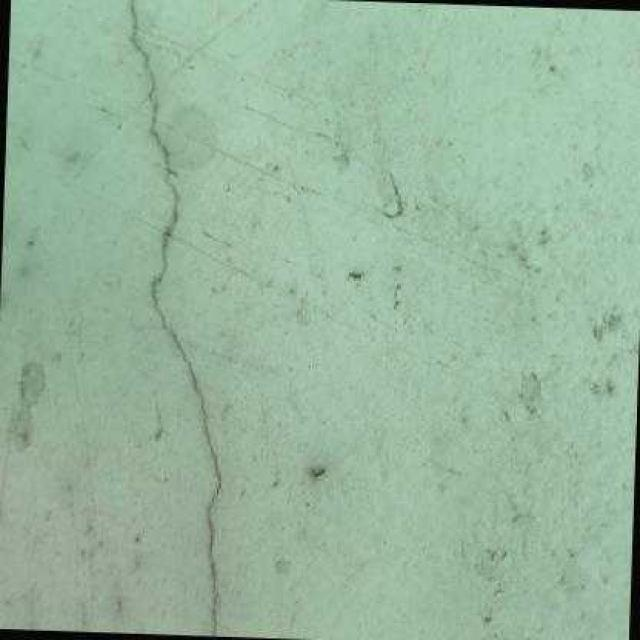D00: (129, 0, 222, 637)
